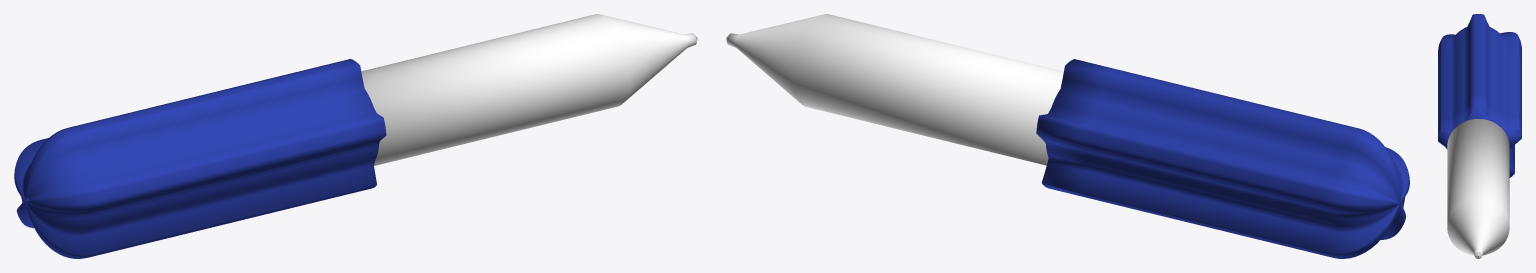
The model's file is screwdriver.glb.
3 renders of one model, left to right at view 1: azimuth 30°, elevation 25°; view 2: azimuth 150°, elevation 25°; view 3: azimuth 270°, elevation 25°, orthographic. The views are drawn at different scales.
Parts seen in each view (by area): view 1: Cylinder; view 2: Cylinder; view 3: Cylinder.
Boxes of the visible parts, left/top/right/bottom form: Cylinder: left=14, top=14, right=697, bottom=258; Cylinder: left=726, top=14, right=1409, bottom=258; Cylinder: left=1438, top=14, right=1521, bottom=258.
Size of the model in its own units: 16.3 by 2.72 by 2.69.
